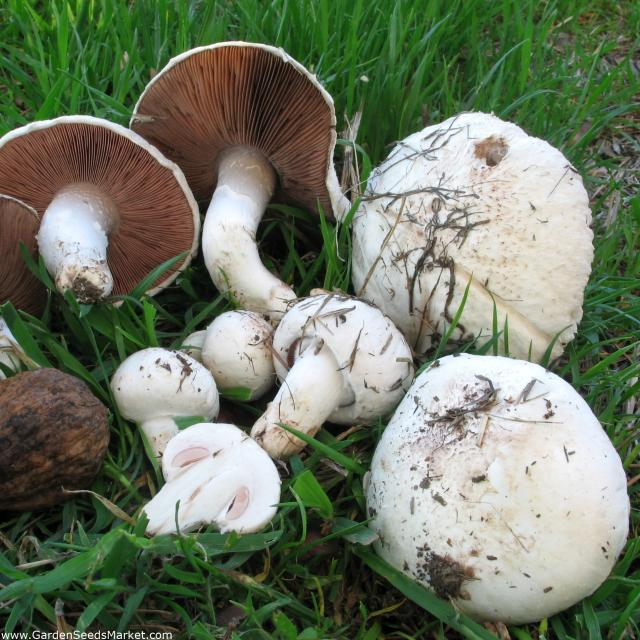field-mushroom: (363, 354, 632, 631), (351, 111, 594, 372), (132, 47, 351, 313), (0, 115, 201, 321), (250, 294, 414, 460), (142, 423, 287, 539)
